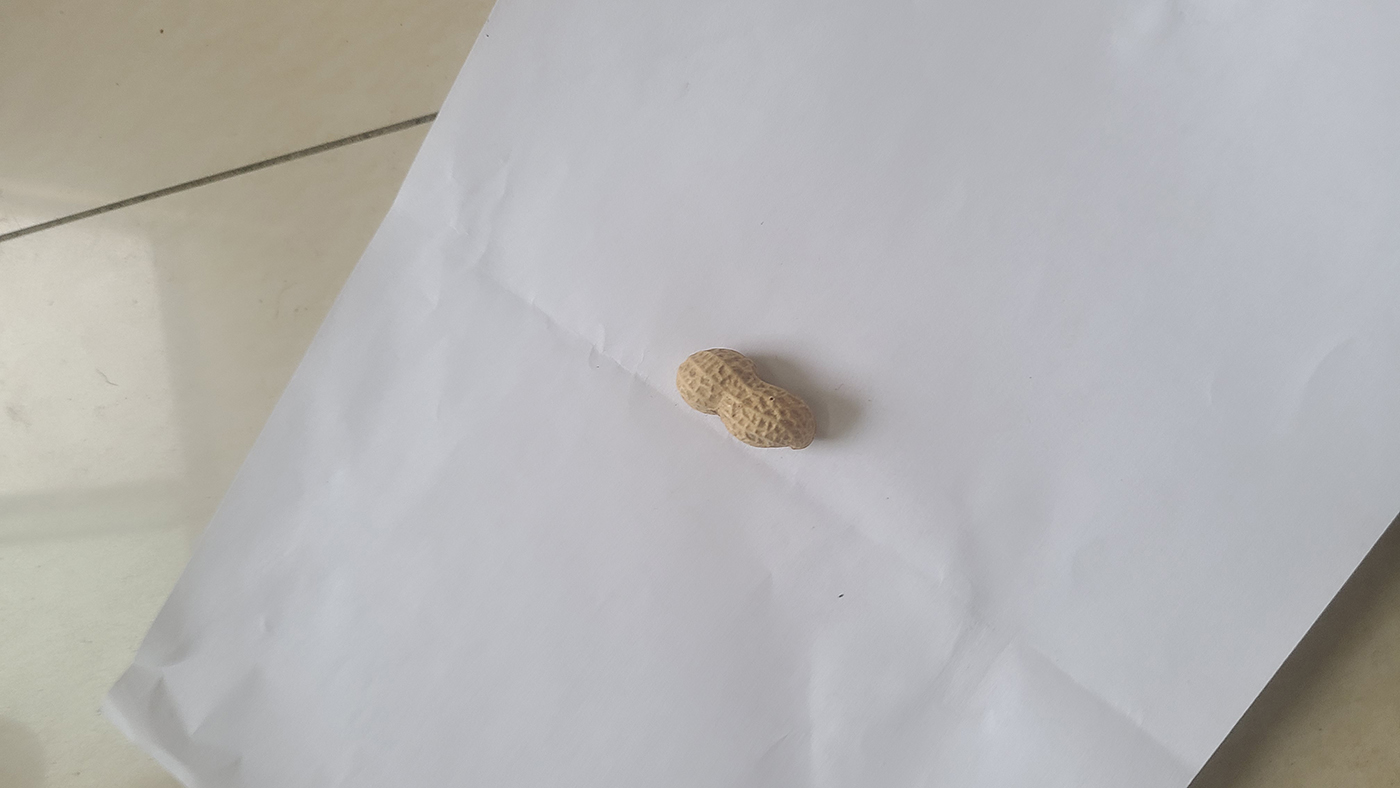h: (675, 348, 817, 451)
